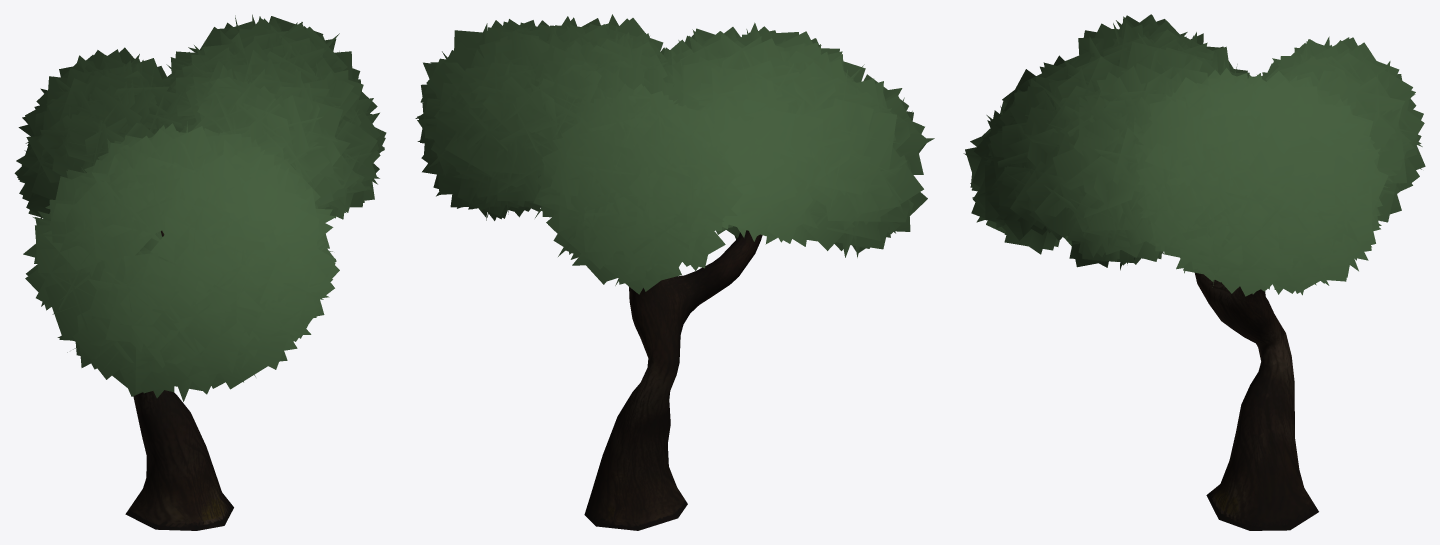
The model's file is tree02_lp.fbx.
3 views of the same model, side by side, from view 1: azimuth 30°, elevation 25°; view 2: azimuth 150°, elevation 25°; view 3: azimuth 270°, elevation 25° (orthographic).
Parts seen in each view (by area): view 1: tree02_lp; view 2: tree02_lp; view 3: tree02_lp.
Part boxes in pixels (x1=…): tree02_lp: x1=14, y1=14, x2=386, y2=530; tree02_lp: x1=415, y1=14, x2=934, y2=530; tree02_lp: x1=963, y1=14, x2=1425, y2=530.
Bounding box in the file's own units: 1839 × 2044 × 1826.
